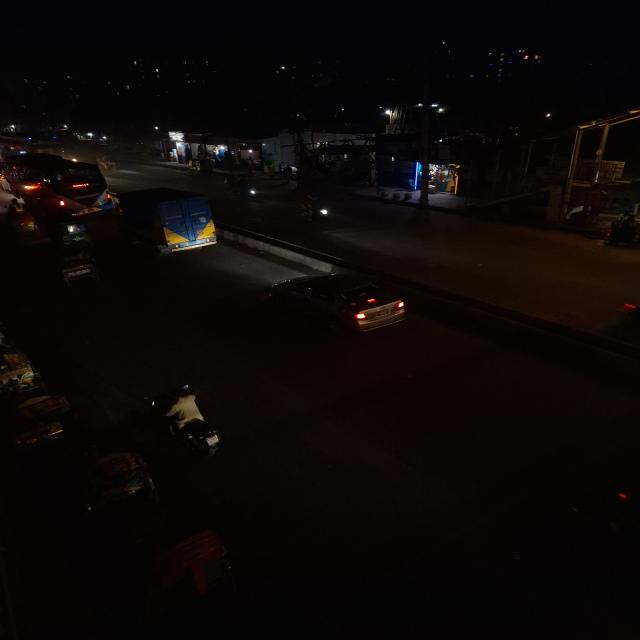car: (262, 270, 412, 336), (1, 152, 117, 214)
motorcycle: (144, 381, 230, 462), (598, 214, 640, 248), (297, 192, 334, 225)
rickshaw: (68, 442, 160, 516), (0, 386, 78, 458), (44, 240, 106, 290), (0, 334, 44, 398), (1, 200, 40, 238), (297, 193, 334, 225)
truck: (116, 186, 223, 258)
